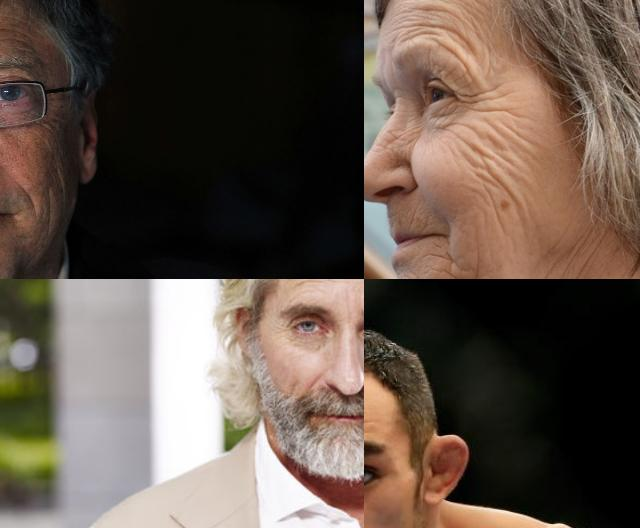bunny_line: (386, 124, 414, 148)
chin: (428, 244, 459, 276)
crows_feet: (456, 87, 486, 119)
forehead: (419, 3, 459, 41), (0, 21, 27, 52), (391, 19, 417, 44), (450, 48, 472, 72), (289, 279, 318, 291), (397, 0, 414, 10)
gummy_smile: (15, 184, 42, 218), (303, 368, 321, 392)
masseter: (554, 246, 586, 279), (46, 147, 68, 191), (491, 118, 523, 148), (470, 144, 496, 180), (499, 178, 523, 210), (465, 252, 483, 279)
smoker_lines: (402, 204, 424, 230)
